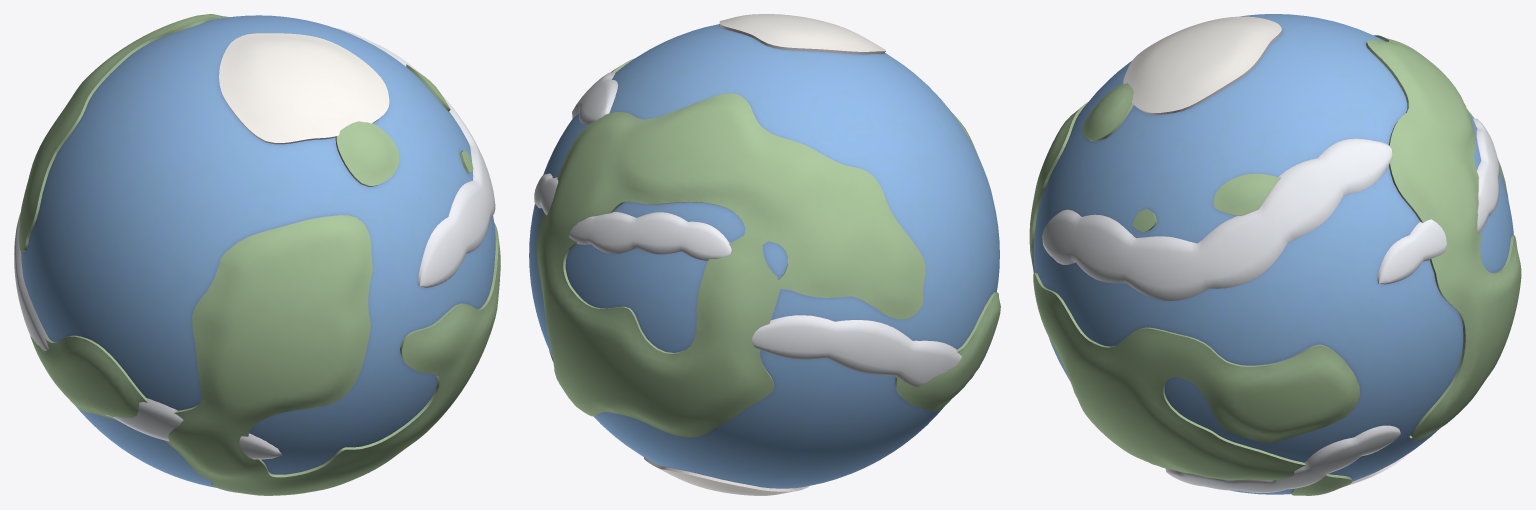
Rendered from planet.glb.
3 views of the same model, side by side, from view 1: azimuth 30°, elevation 25°; view 2: azimuth 150°, elevation 25°; view 3: azimuth 270°, elevation 25° (orthographic). The views are drawn at different scales.
Visible parts, largest first — view 1: planet_body; view 2: planet_body; view 3: planet_body.
Part boxes in pixels (left/top/right/bottom): planet_body: left=14, top=14, right=500, bottom=495; planet_body: left=529, top=14, right=1000, bottom=495; planet_body: left=1029, top=14, right=1521, bottom=495.
Bounding box in the file's own units: 2.03 × 2.03 × 2.05.
1 material, 1 textured.
